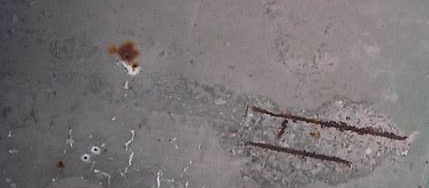Corrosion: (105, 40, 141, 66)
Exposed reinforcement: (250, 104, 408, 141), (244, 140, 353, 168), (275, 118, 289, 140)
Spalling: (136, 74, 418, 188)
